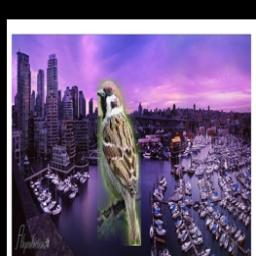Sparrow: (98, 79, 142, 246)
